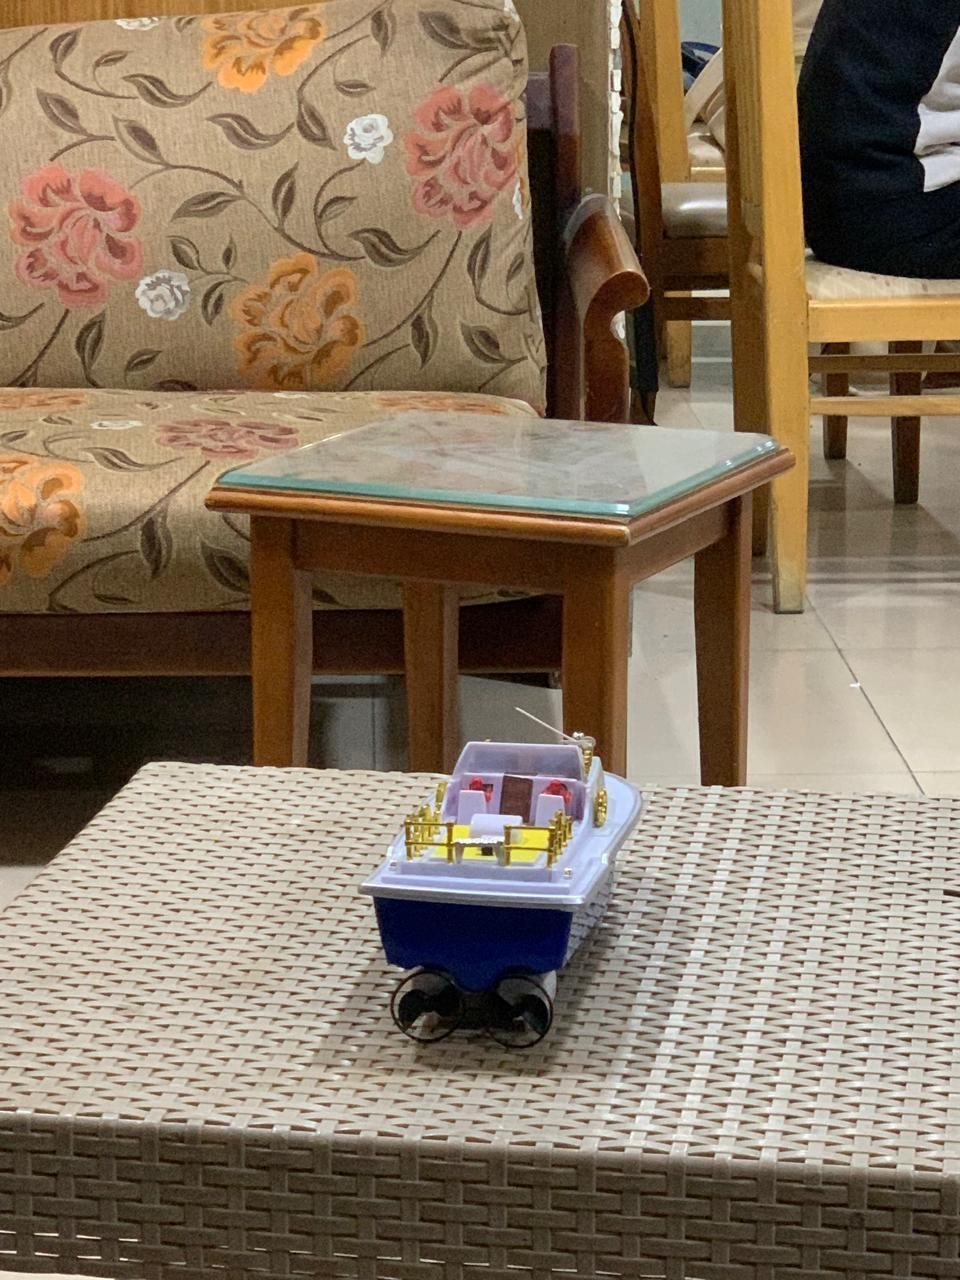Boat: (357, 712, 661, 1069)
